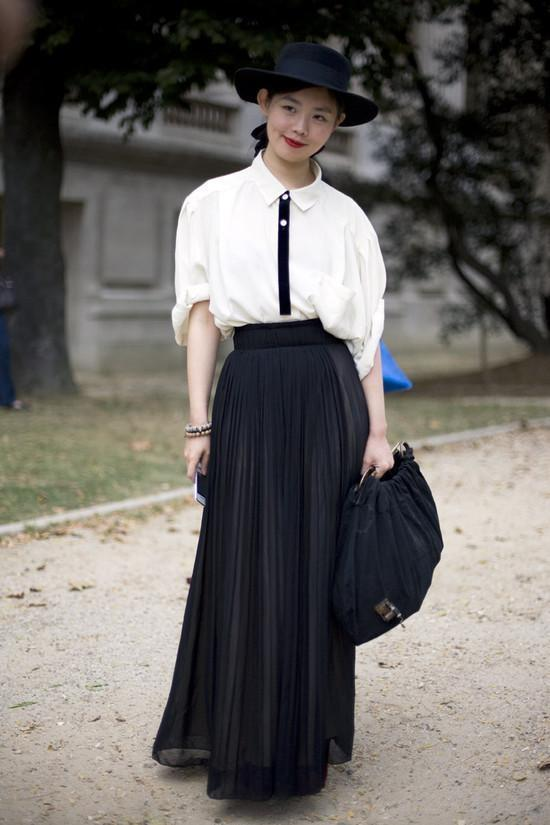shirt: (172, 150, 384, 382)
skirt: (152, 318, 370, 806)
